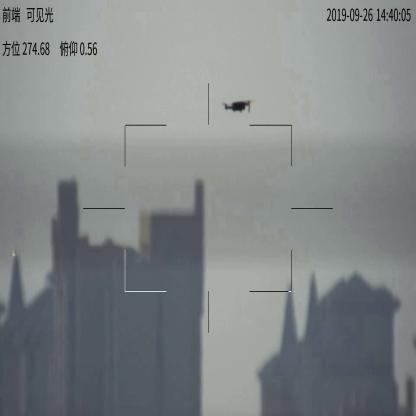uav: (222, 98, 257, 115)
